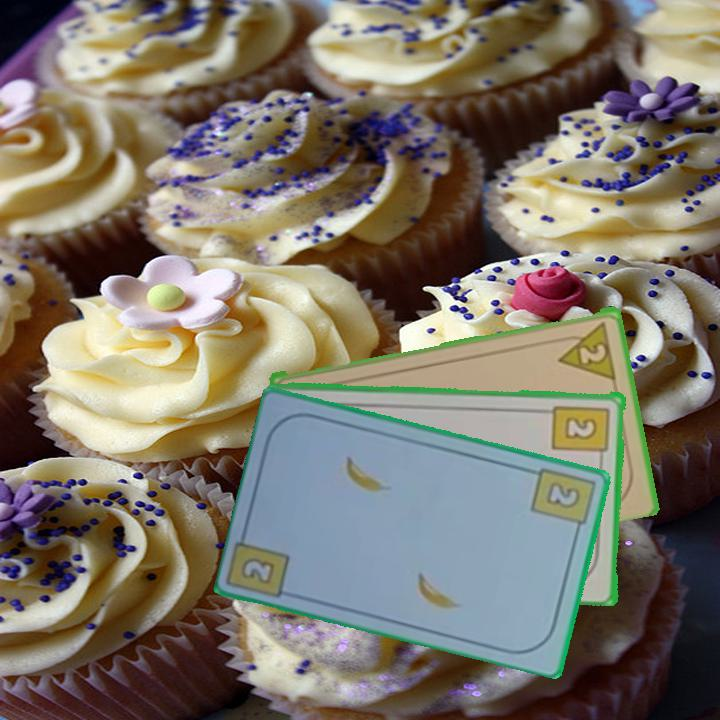2b: (527, 463, 597, 539), (550, 401, 613, 464), (237, 553, 279, 588)
2p: (552, 316, 619, 381)
